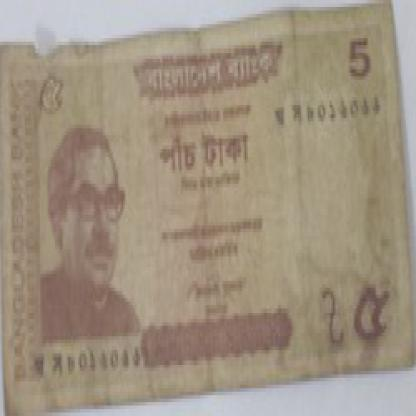Five Taka: (152, 128, 262, 174), (353, 274, 394, 353), (32, 73, 70, 128), (344, 28, 374, 83)
